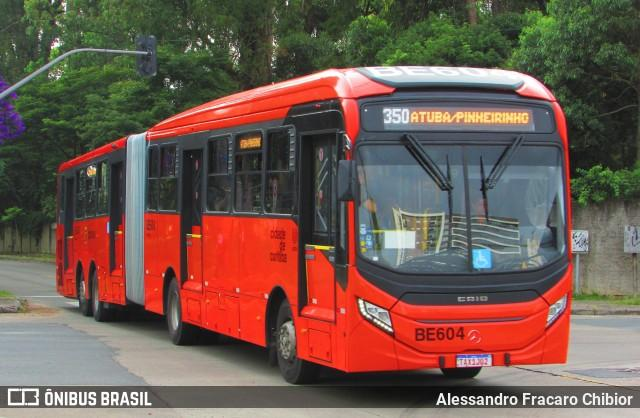ATUBA PINHEIRINHO: (408, 108, 534, 132)
